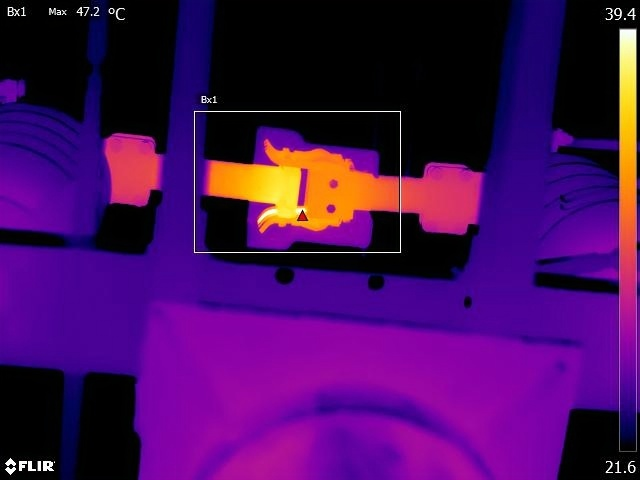post insulator: (1, 104, 116, 237), (543, 145, 619, 263)
switch: (90, 118, 487, 244)
